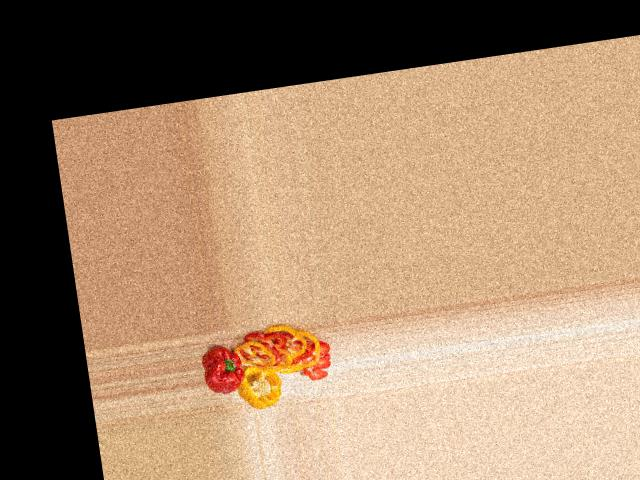bell_pepper: (237, 362, 287, 413)
